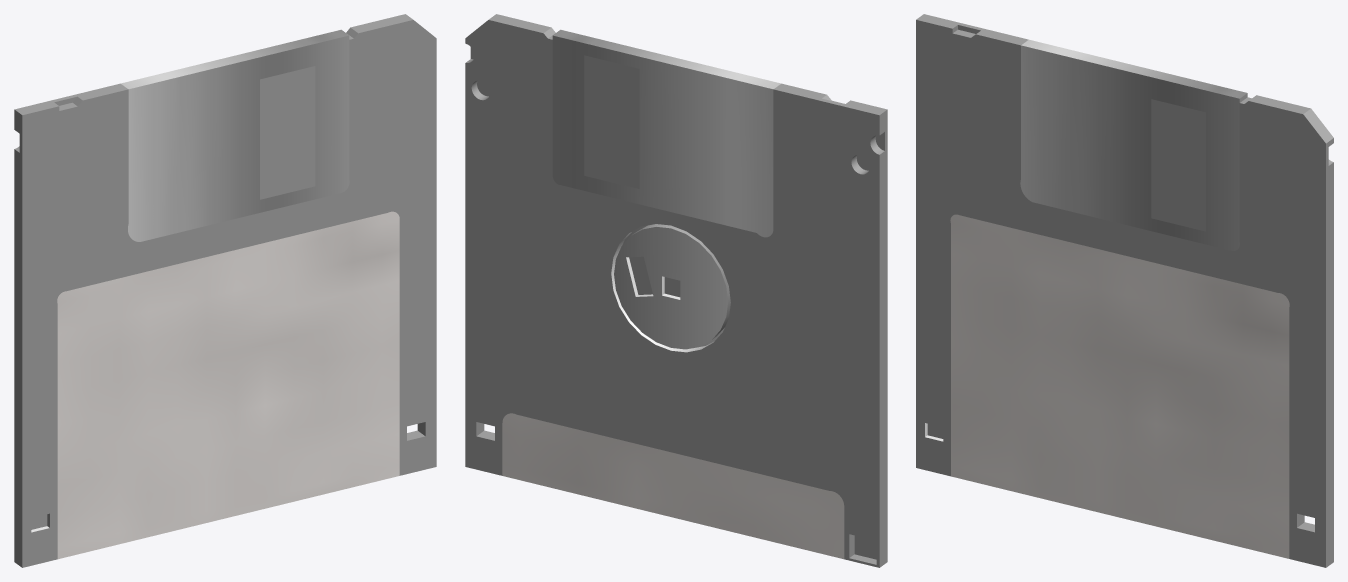
Rendered from floppy_disc.fbx.
3 views of the same model, side by side, from view 1: azimuth 30°, elevation 25°; view 2: azimuth 150°, elevation 25°; view 3: azimuth 330°, elevation 25° (orthographic).
Parts seen in each view (by area): view 1: SketchUp2; view 2: SketchUp2; view 3: SketchUp2.
Boxes of the visible parts, x1,y1,x2,y2 form: SketchUp2: (14, 14, 436, 567); SketchUp2: (465, 14, 887, 567); SketchUp2: (916, 14, 1333, 567).
Size of the model in its own units: 9 by 9.4 by 0.3.
4 materials, 2 textured.
